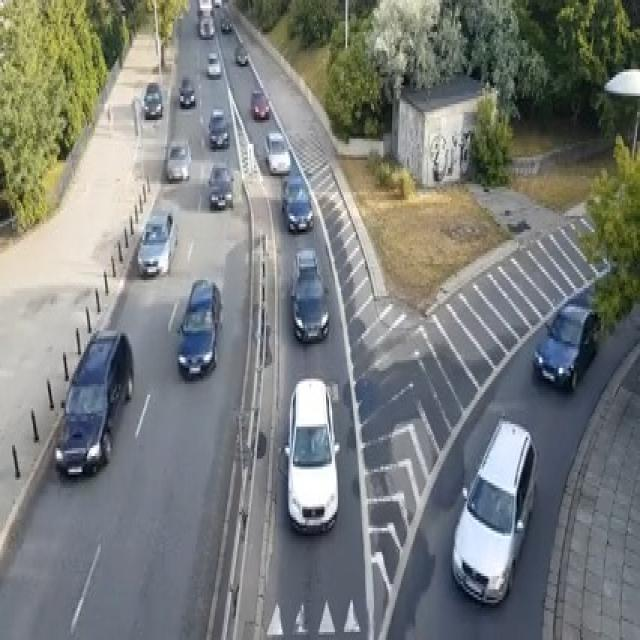car: (451, 416, 536, 605), (54, 328, 134, 477), (282, 376, 340, 533), (532, 301, 601, 392), (177, 277, 221, 379), (288, 248, 329, 341), (137, 208, 177, 277), (281, 173, 312, 232), (207, 160, 233, 208), (263, 131, 290, 173), (165, 139, 191, 181), (208, 106, 228, 146), (143, 83, 162, 117), (251, 88, 269, 120), (178, 75, 195, 106), (198, 13, 215, 38), (206, 51, 221, 77), (234, 43, 248, 64), (197, 0, 212, 13), (221, 16, 231, 32), (212, 0, 221, 5)
